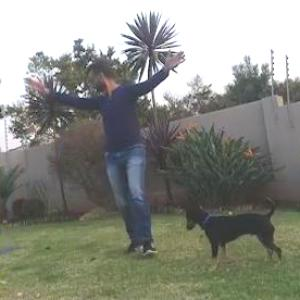takeoff: (30, 40, 192, 244)
